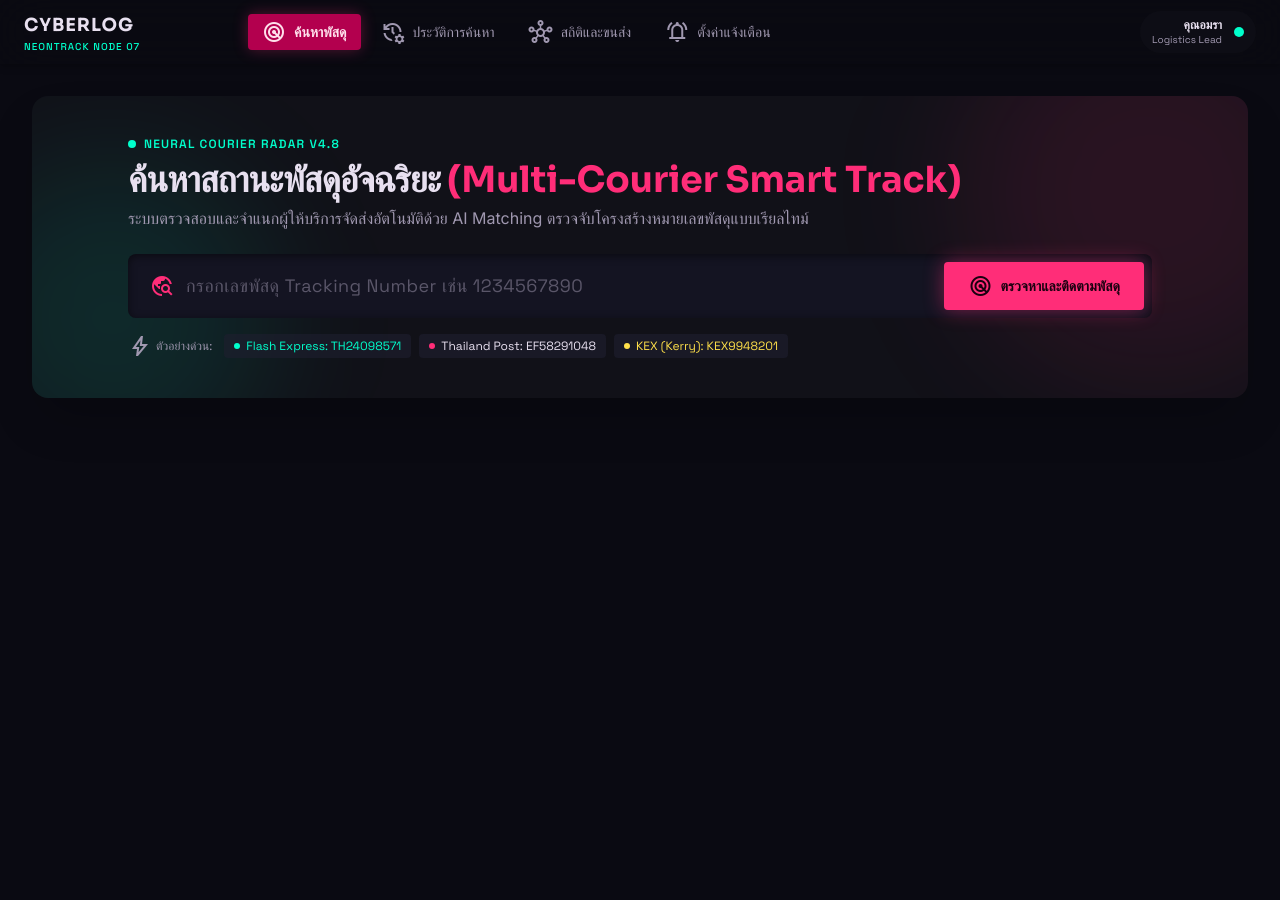
Test: Flow 1: search with tracking code › TC001 valid code displays retrieved data
Type "1234567890" into the field named "Tracking code". click: (556, 286)
box: x1=186 y1=272 x2=926 y2=300
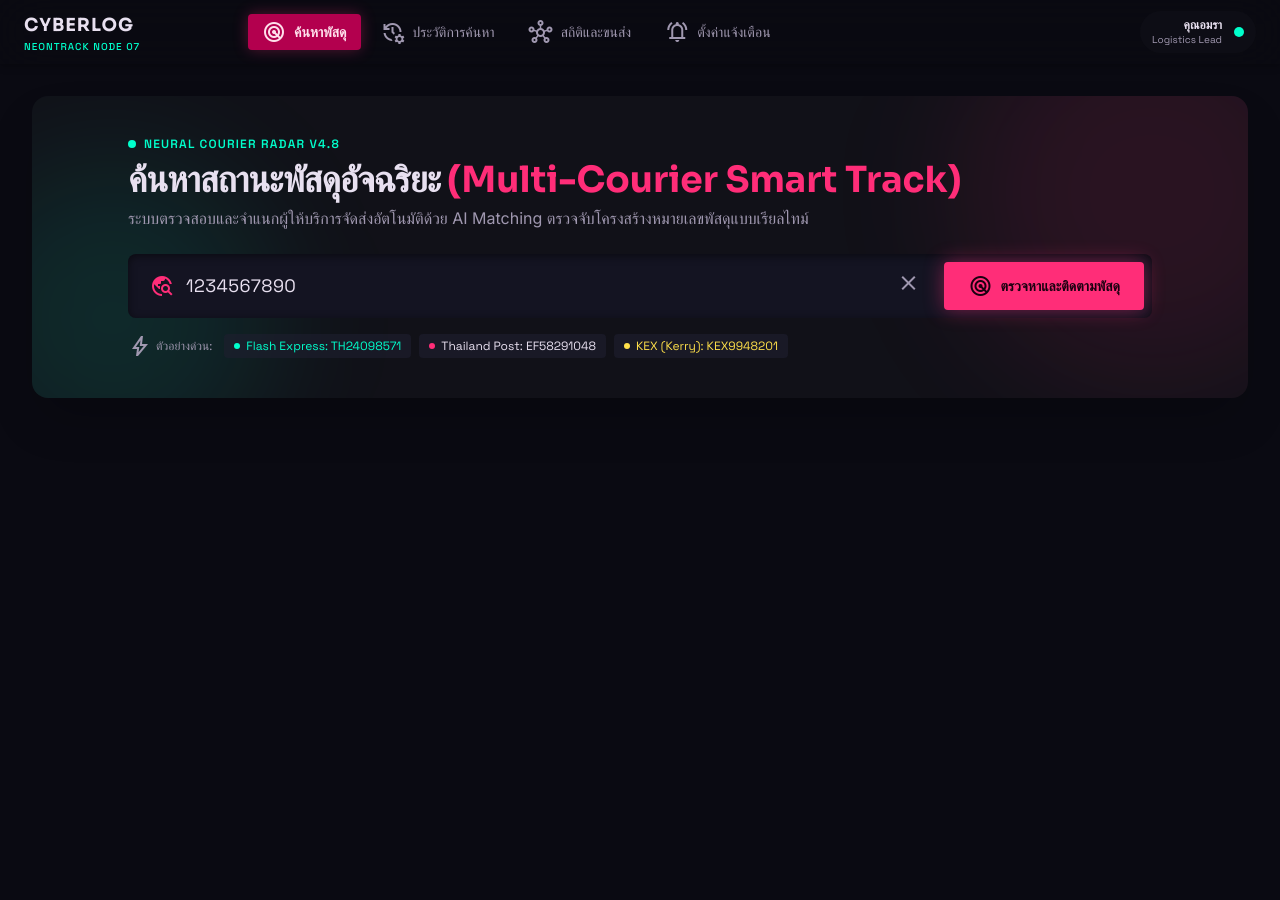
Click the button "ตรวจหาและติดตามพัสดุ". click: (1044, 286)
box: x1=944 y1=262 x2=1144 y2=310
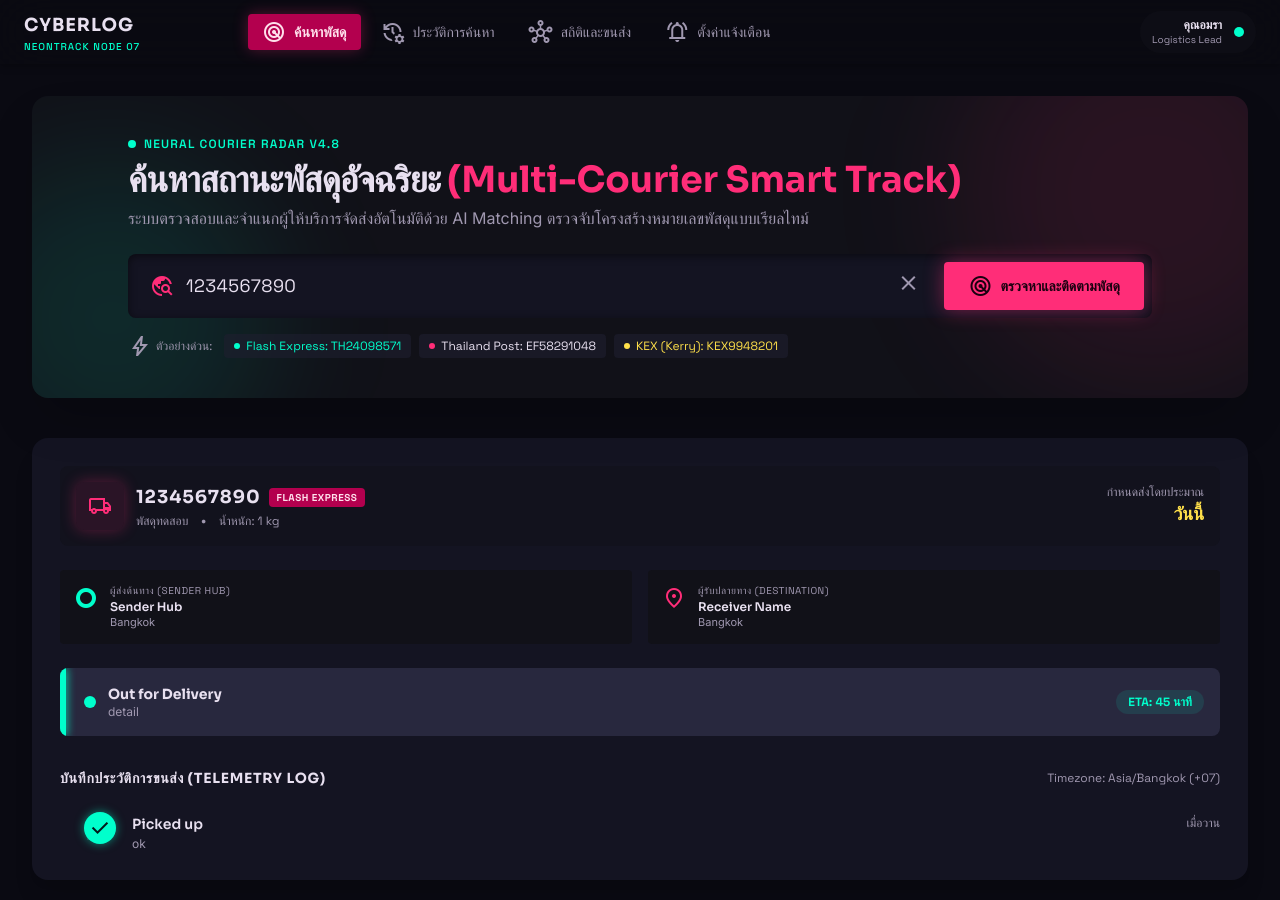
Result: the text "Receiver Name" is shown at x1=698 y1=599 x2=791 y2=614
